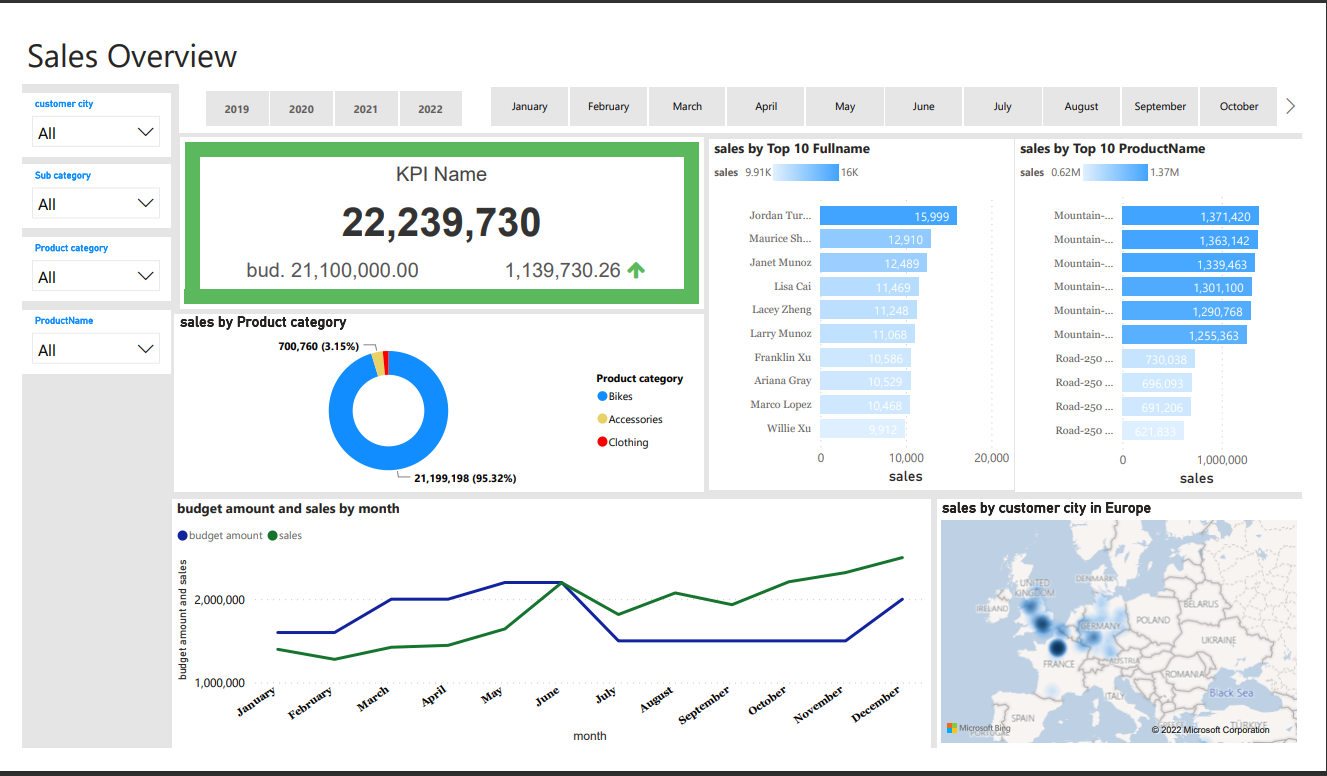

The dashboard page shown, as its layout file describes it:
{"tool":"powerbi","page":{"name":"Sales Overview ","canvas":[1280,720],"ordinal":0},"visuals":[{"type":"textbox","box":[0,0,1280,56.4],"z":0},{"type":"slicer","fields":{"Values":["dim customers.customer city"]},"box":[0,65.4,147.8,63.6],"z":1000},{"type":"slicer","fields":{"Values":["dim product.Product category"]},"box":[0,210.4,147.8,63.6],"z":2000},{"type":"slicer","fields":{"Values":["dim product. Sub category"]},"box":[0,137.9,147.8,63.6],"z":3000},{"type":"slicer","fields":{"Values":["dim product.ProductName"]},"box":[0,283,147.8,63.6],"z":4000},{"type":"slicer","fields":{"Values":["dim calendar.year"]},"box":[157.8,56.8,306,49.1],"z":5000},{"type":"slicer","fields":{"Values":["dim calendar.month"]},"box":[443.7,52.9,836.3,52.9],"z":6000},{"type":"BBED0A4D4D8D44CE93CF2DAFADEE466C","fields":{"actual":["Table.sales"],"target1":["Table.budget amount"],"target2":["Table.sales - thebudget"]},"box":[157.8,110.4,523.8,172.3],"z":7000},{"type":"donutChart","fields":{"Y":["Measures Table.sales"],"Category":["dim product.Product category"]},"box":[153,286.6,528.7,178.2],"z":8000},{"type":"lineChart","fields":{"Y":["Measures Table.budget amount","Measures Table.sales"],"Category":["dim calendar.month"]},"box":[150.1,472.5,758.1,247.9],"z":9000},{"type":"barChart","title":"sales by Top 10 Fullname","fields":{"Y":["Measures Table.sales"],"Category":["dim customers.Fullname"]},"box":[687.4,112.3,305,349.5],"z":10000},{"type":"barChart","title":"sales by Top 10 ProductName","fields":{"Y":["Measures Table.sales"],"Category":["dim product.ProductName"]},"box":[993.4,112.3,286.6,352.4],"z":11000},{"type":"map","title":"sales by customer city in Europe ","fields":{"Category":["dim customers.customer city"],"Size":["Measures Table.sales"]},"box":[915,472.5,365,247.9],"z":12000}]}

Visuals, with their boxes on the page's 1280x720 design canvas (x1, y1, x2, y2). These are canvas units, not pixel positions in the 1327x776 screenshot, which may show the page scaled, cropped or inside an application window:
textbox: [x1=0, y1=0, x2=1280, y2=56]
slicer - dim customers.customer city: [x1=0, y1=65, x2=148, y2=129]
slicer - dim product.Product category: [x1=0, y1=210, x2=148, y2=274]
slicer - dim product. Sub category: [x1=0, y1=138, x2=148, y2=202]
slicer - dim product.ProductName: [x1=0, y1=283, x2=148, y2=347]
slicer - dim calendar.year: [x1=158, y1=57, x2=464, y2=106]
slicer - dim calendar.month: [x1=444, y1=53, x2=1280, y2=106]
BBED0A4D4D8D44CE93CF2DAFADEE466C - Table.sales x Table.budget amount: [x1=158, y1=110, x2=682, y2=283]
donutChart - Measures Table.sales x dim product.Product category: [x1=153, y1=287, x2=682, y2=465]
lineChart - Measures Table.budget amount x Measures Table.sales: [x1=150, y1=472, x2=908, y2=720]
"sales by Top 10 Fullname" barChart: [x1=687, y1=112, x2=992, y2=462]
"sales by Top 10 ProductName" barChart: [x1=993, y1=112, x2=1280, y2=465]
"sales by customer city in Europe " map: [x1=915, y1=472, x2=1280, y2=720]
